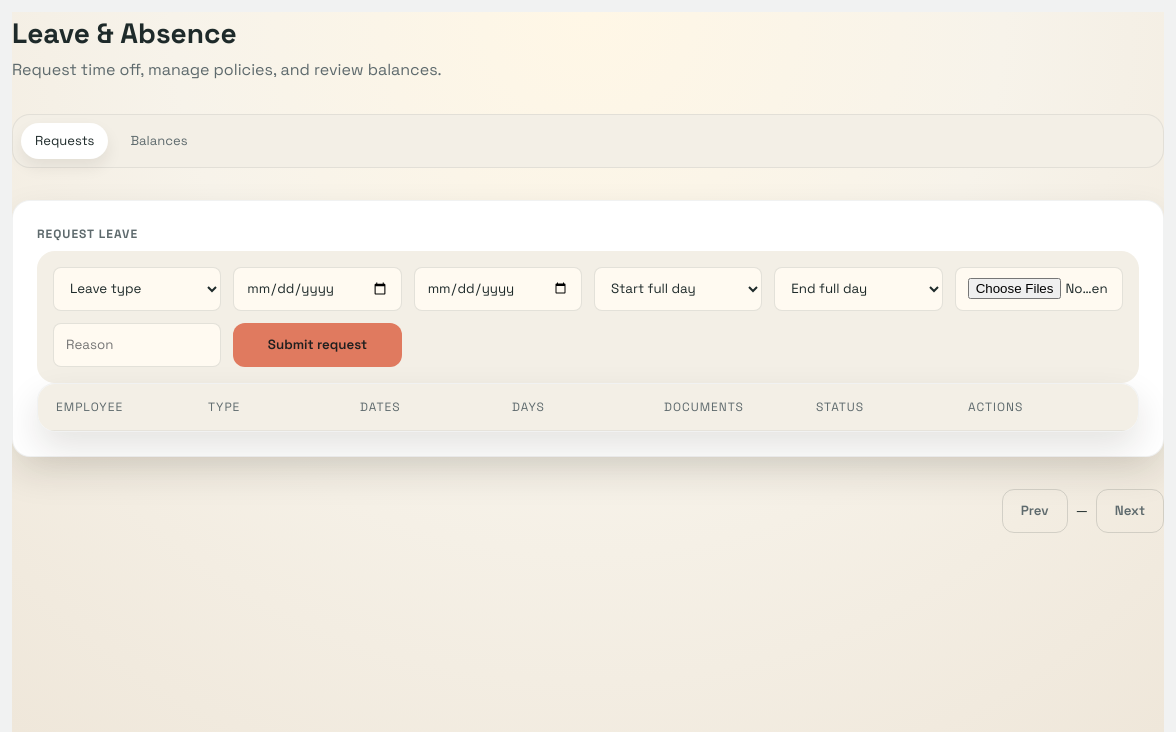
Test: Leave page › requires a document when leave type requires it
Select "Medical" in the dropdown named "leave type". click: {"x": 137, "y": 288}
box: top-left (53, 266), bottom-right (221, 310)
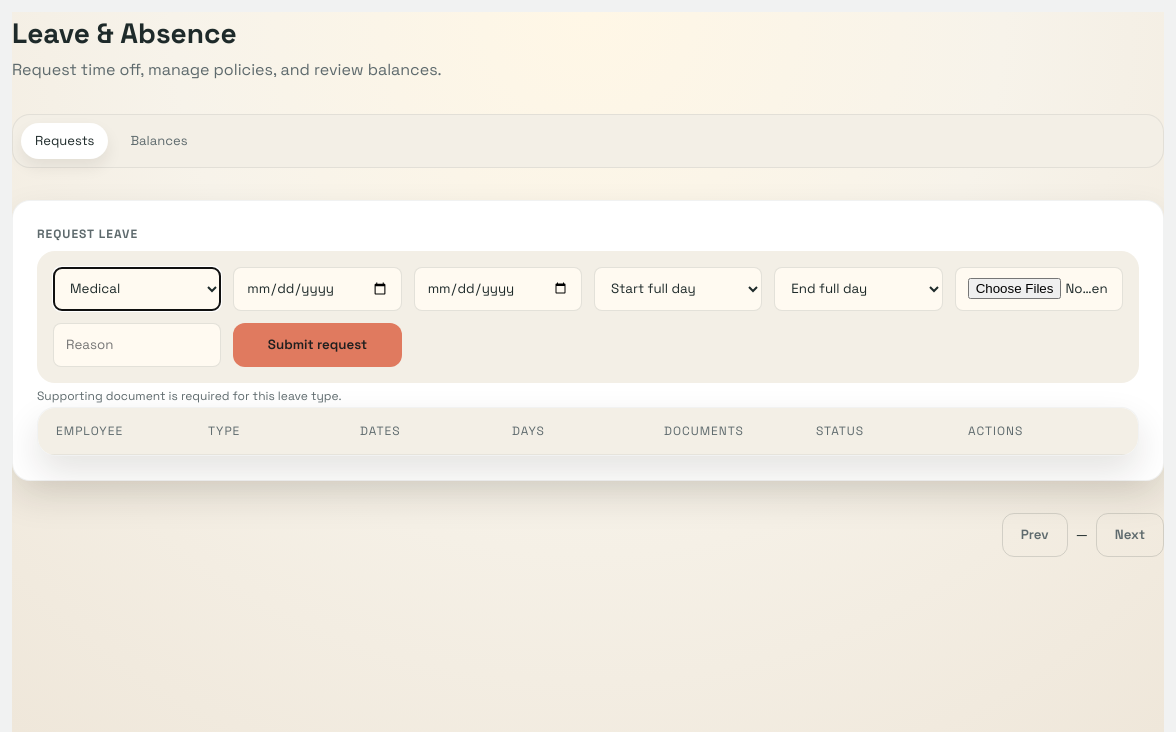
Type "2026-01-10" into the date field named "Start date". click: {"x": 317, "y": 288}
box: top-left (233, 266), bottom-right (402, 310)
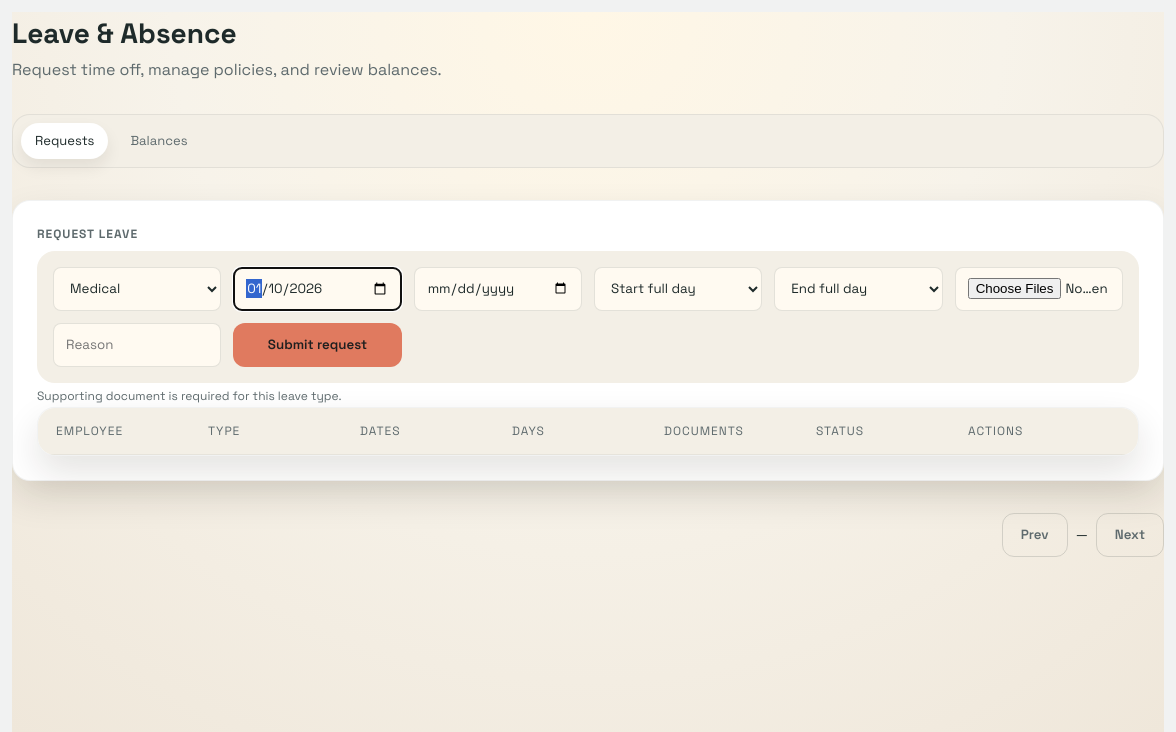
Type "2026-01-10" into the date field named "End date". click: {"x": 498, "y": 288}
box: top-left (414, 266), bottom-right (582, 310)
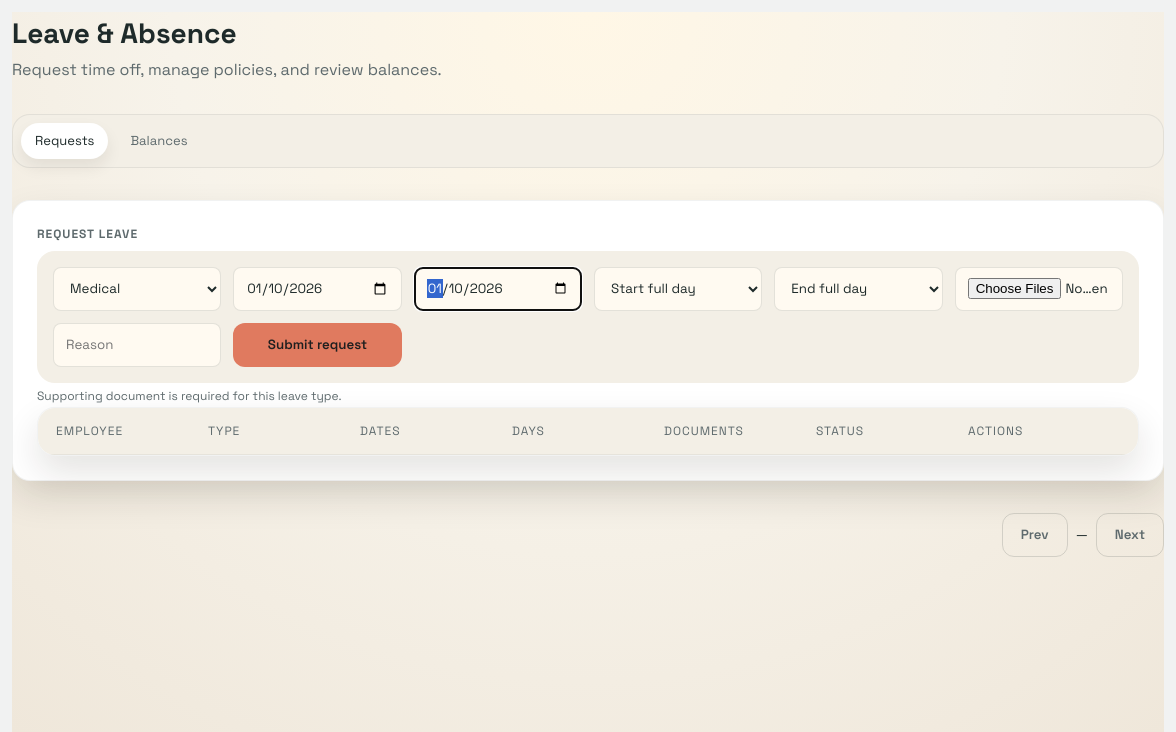
Click the button "Submit request". click: {"x": 317, "y": 344}
box: top-left (233, 322), bottom-right (402, 366)
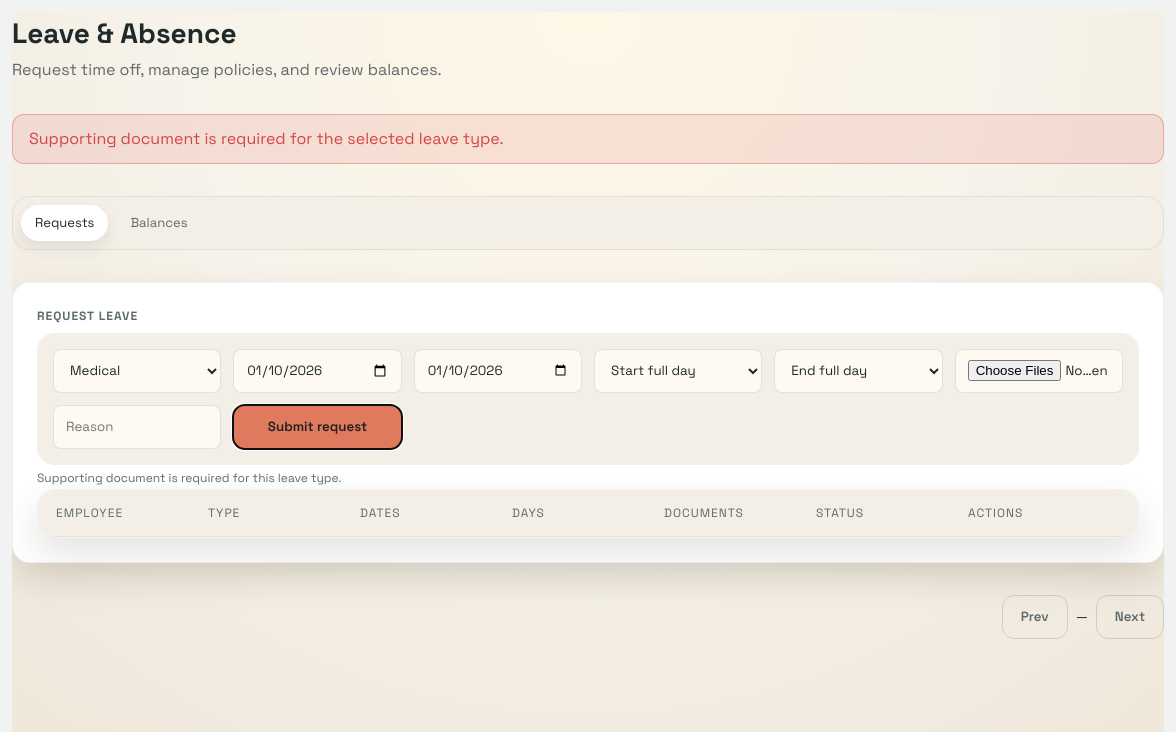
Result: the message shows "Supporting document is required" at top-left (29, 128), bottom-right (504, 149)
